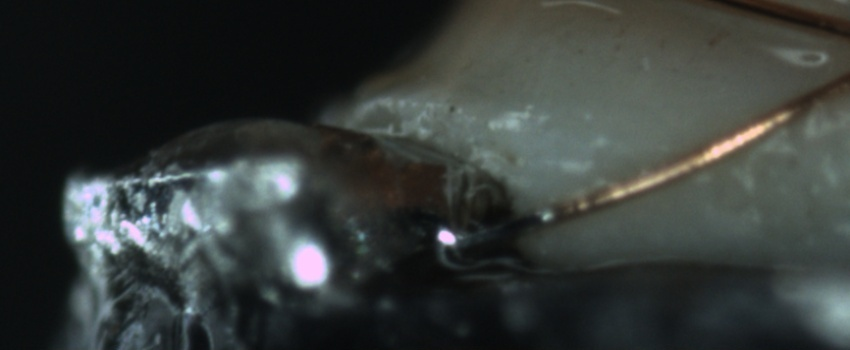TS: (444, 200, 573, 249)
